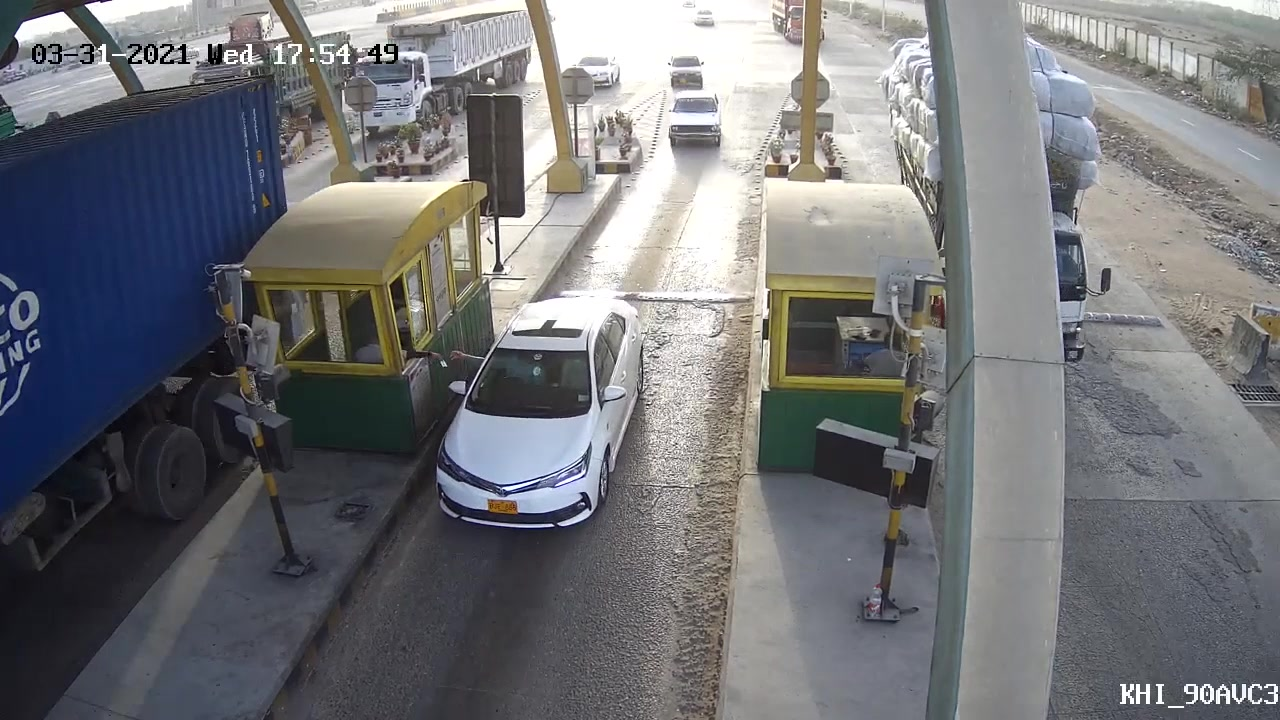F1: (423, 292, 656, 535)
